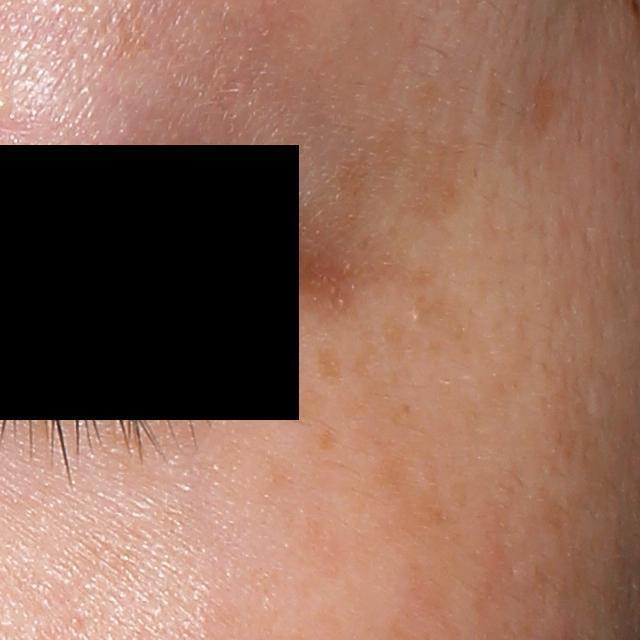melasma: (337, 74, 470, 227), (374, 439, 459, 531), (305, 512, 371, 576), (312, 342, 341, 386), (317, 429, 340, 455)
